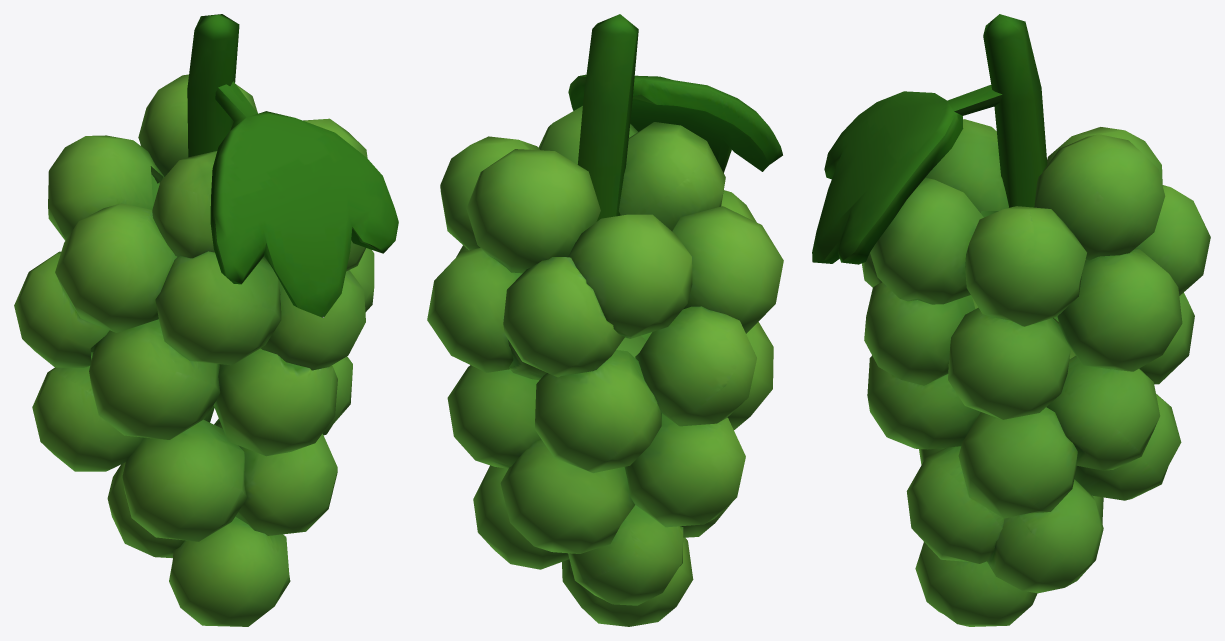
File: 0-grape_green.fbx
3 renders of one model, left to right at view 1: azimuth 30°, elevation 25°; view 2: azimuth 150°, elevation 25°; view 3: azimuth 270°, elevation 25°, orthographic. The views are drawn at different scales.
Visible parts, largest first — view 1: 0-grape_green; view 2: 0-grape_green; view 3: 0-grape_green.
Part boxes in pixels (x1=…): 0-grape_green: x1=14, y1=14, x2=398, y2=626; 0-grape_green: x1=427, y1=14, x2=783, y2=626; 0-grape_green: x1=812, y1=14, x2=1210, y2=626.
Bounding box in the file's own units: 50.42 × 90.57 × 53.75.
